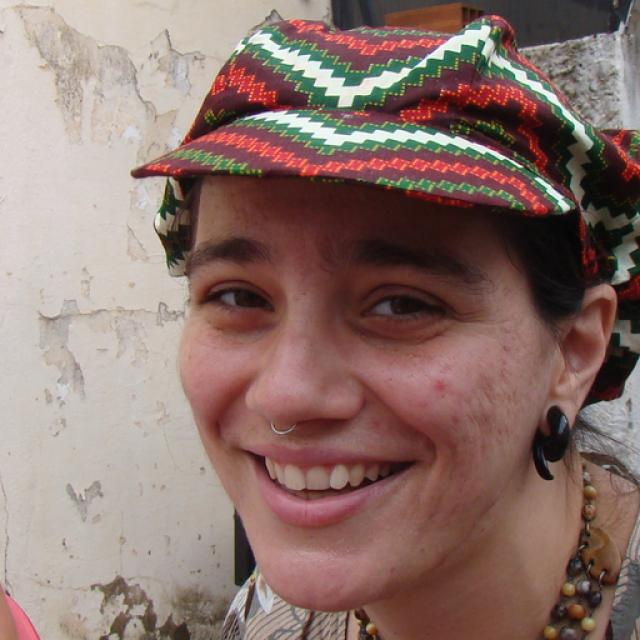Acne: (409, 394, 436, 415), (442, 432, 463, 452), (434, 374, 448, 394), (450, 410, 462, 429)
